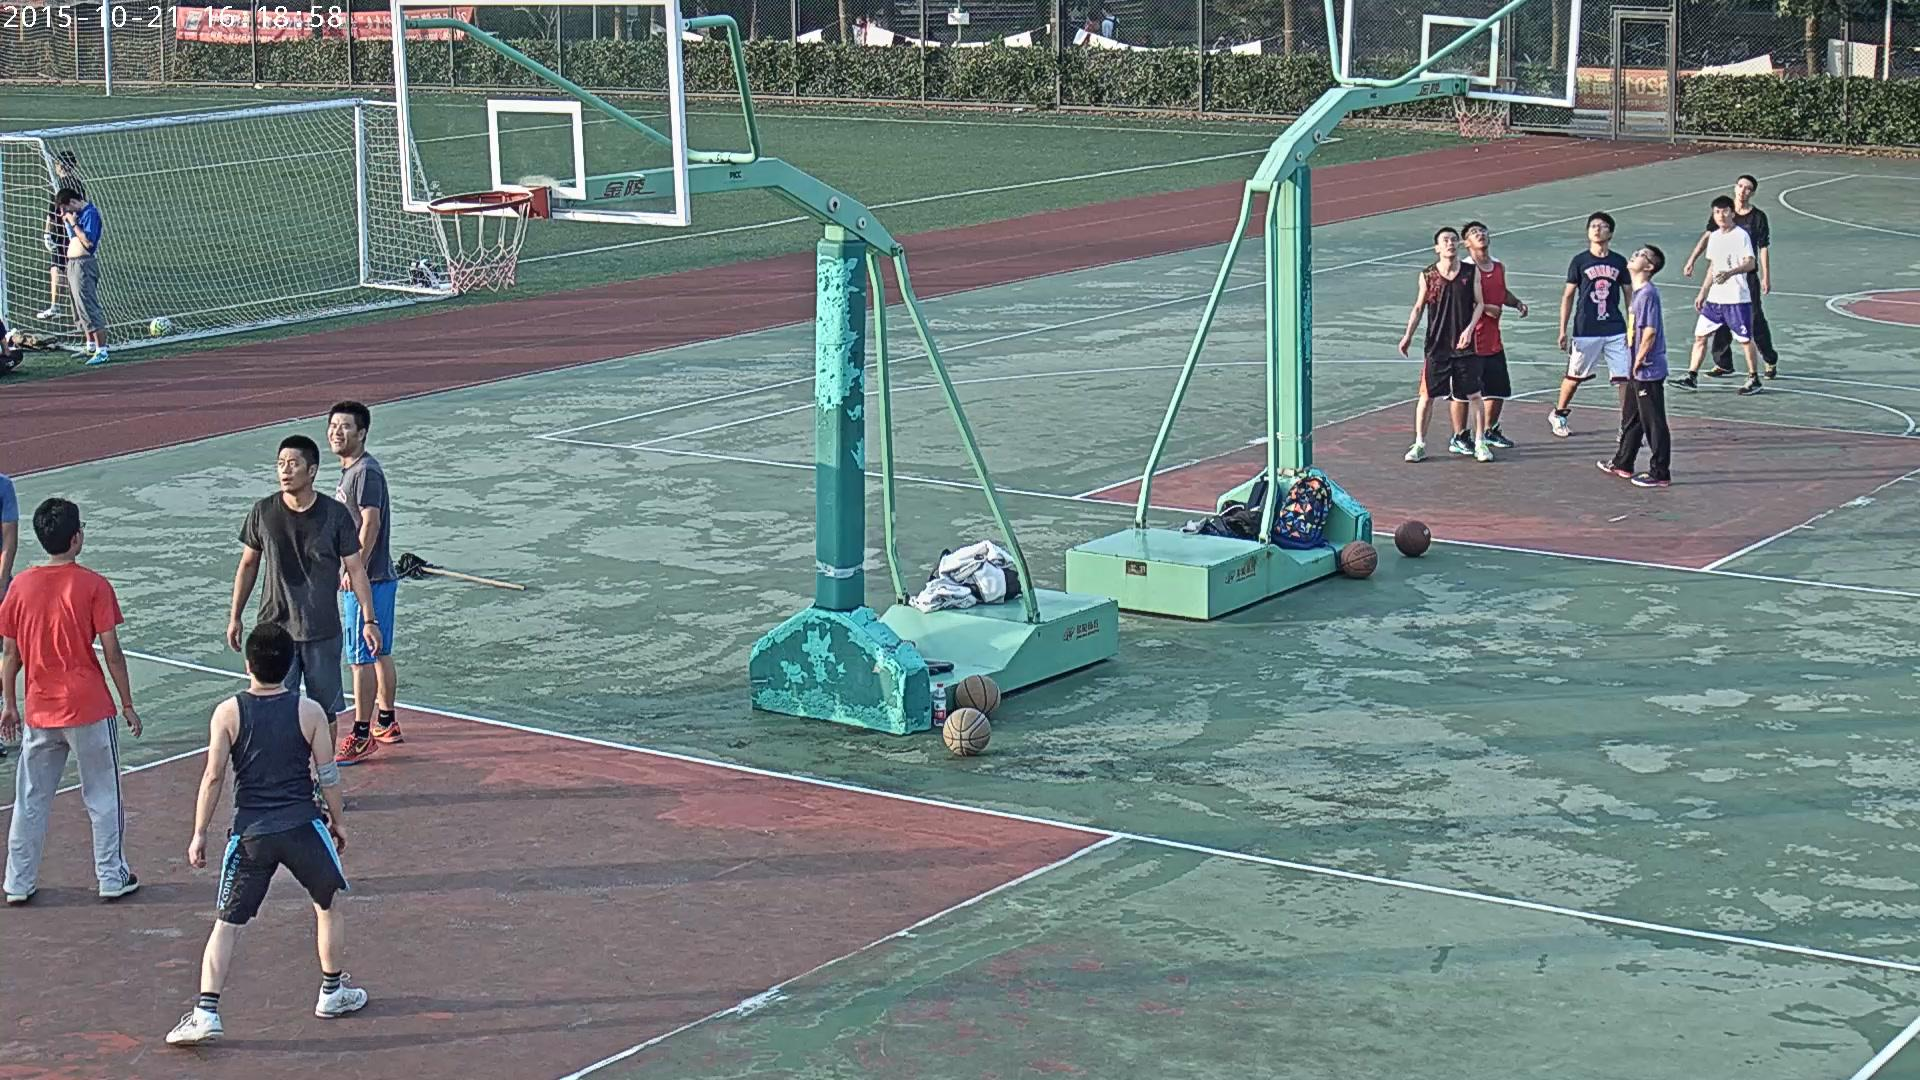face: (277, 447, 308, 490), (326, 413, 358, 452), (1469, 226, 1489, 249), (1589, 219, 1609, 242), (1441, 232, 1458, 259), (1625, 249, 1649, 268), (1736, 178, 1751, 202), (1714, 208, 1730, 226), (76, 520, 83, 556), (61, 202, 79, 212), (54, 157, 59, 173)
